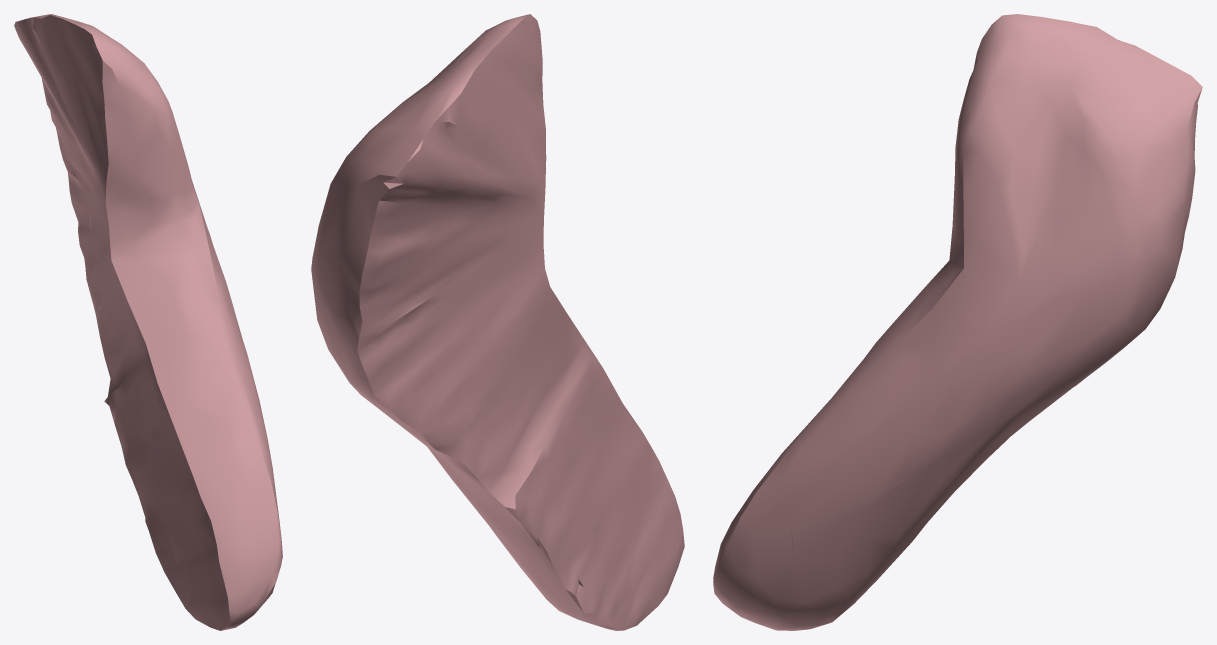
The model's file is fma72721_mm232.glb.
3 renders of one model, left to right at view 1: azimuth 30°, elevation 25°; view 2: azimuth 150°, elevation 25°; view 3: azimuth 270°, elevation 25°, orthographic. The views are drawn at different scales.
Parts seen in each view (by area): view 1: FMA72721_MM232; view 2: FMA72721_MM232; view 3: FMA72721_MM232.
Boxes of the visible parts, bbox=[...] form: FMA72721_MM232: bbox=[14, 14, 282, 630]; FMA72721_MM232: bbox=[311, 14, 684, 630]; FMA72721_MM232: bbox=[713, 14, 1202, 630].
Bounding box in the file's own units: 0.00718 × 0.0302 × 0.0225.
